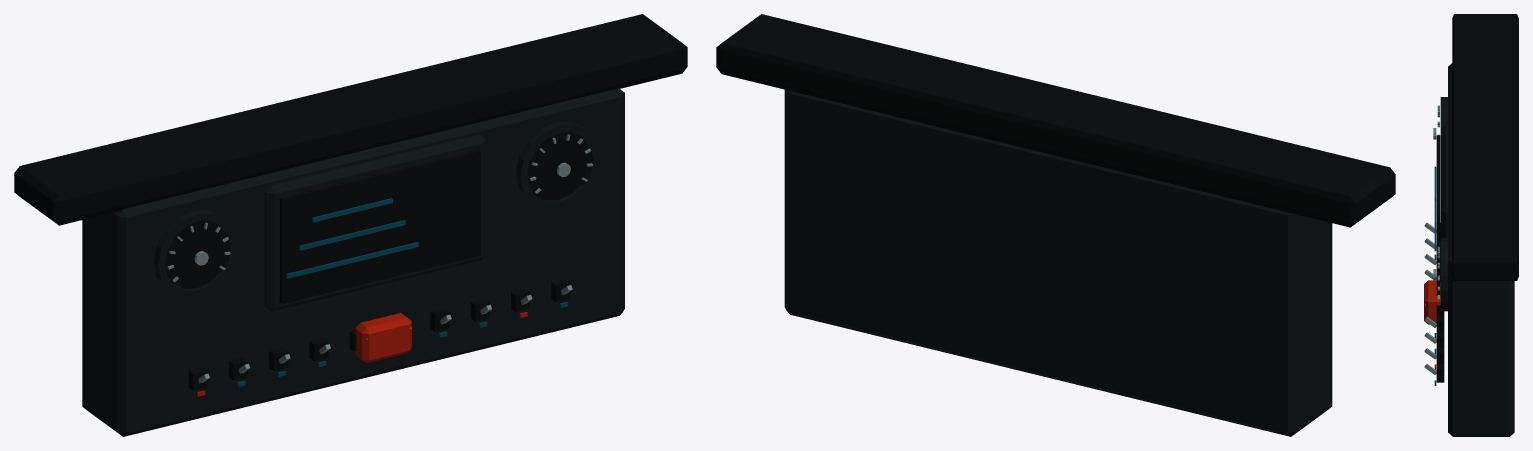
File: Cockpit_DropPod__Panel.obj
3 views of the same model, side by side, from view 1: azimuth 30°, elevation 25°; view 2: azimuth 150°, elevation 25°; view 3: azimuth 270°, elevation 25° (orthographic). The views are drawn at different scales.
Parts seen in each view (by area): view 1: Armored_command_console, Glare_shield, Descent_dark_inset, Descent_case, Thrust_face, AGL_face, Thrust_bezel, AGL_bezel, Guarded_emergency_switch, Descent_segment.002, Descent_segment.001; view 2: Armored_command_console, Glare_shield; view 3: Glare_shield, Armored_command_console, Descent_case, Descent_dark_inset, Thrust_bezel, Guarded_emergency_switch, AGL_bezel, Switch_base.009, Switch_base.006, Switch_base.007, Switch_base.008.
Boxes of the visible parts, x1,y1,x2,y2 form: Armored_command_console: (82,88,624,436); Glare_shield: (14,14,687,225); Descent_dark_inset: (279,149,481,303); Descent_case: (264,134,485,311); Thrust_face: (527,132,590,200); AGL_face: (165,220,228,288); Thrust_bezel: (516,121,600,209); AGL_bezel: (153,210,237,297); Guarded_emergency_switch: (355,313,411,362); Descent_segment.002: (286,242,418,278); Descent_segment.001: (299,220,405,250); Armored_command_console: (784,89,1332,436); Glare_shield: (716,14,1395,227); Glare_shield: (1452,14,1518,280); Armored_command_console: (1448,63,1514,436); Descent_case: (1440,125,1447,237); Descent_dark_inset: (1436,135,1440,295); Thrust_bezel: (1440,238,1447,311); Guarded_emergency_switch: (1424,280,1440,324); AGL_bezel: (1440,97,1447,128); Switch_base.009: (1436,364,1444,382); Switch_base.006: (1436,316,1444,332); Switch_base.007: (1436,332,1444,347); Switch_base.008: (1436,348,1444,363).
Bounding box in the file's own units: 1.4 × 0.5425 × 0.2275.
